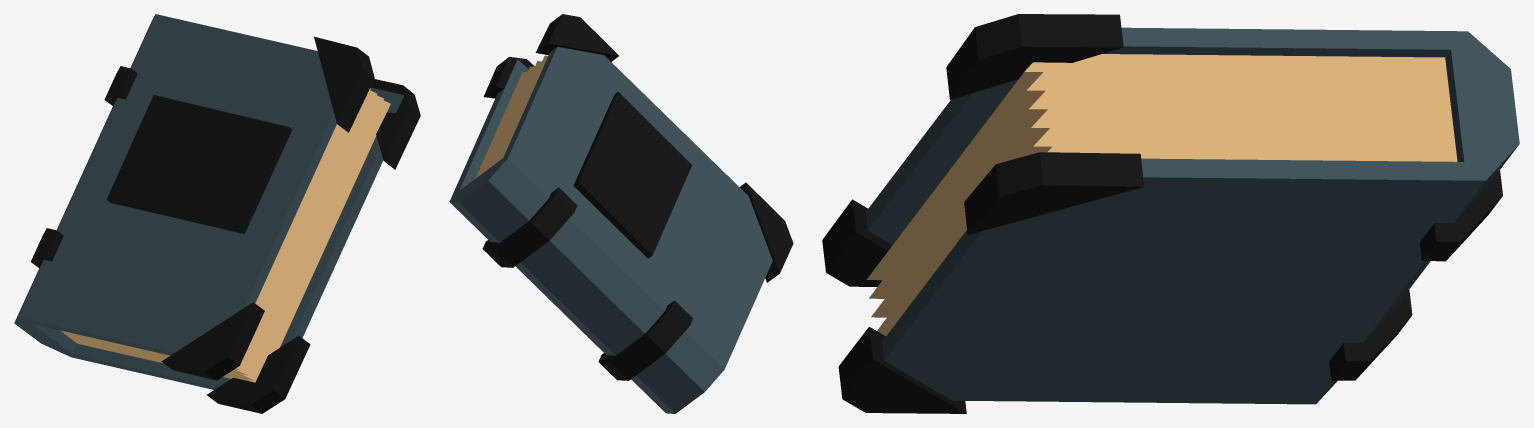
3 views of the same model, side by side, from view 1: azimuth 30°, elevation 25°; view 2: azimuth 150°, elevation 25°; view 3: azimuth 270°, elevation 25° (orthographic). The views are drawn at different scales.
Parts seen in each view (by area): view 1: node_MeshObject-1322332160-PolyPaper18; view 2: node_MeshObject-1322332160-PolyPaper18; view 3: node_MeshObject-1322332160-PolyPaper18.
Part boxes in pixels (x1=…): node_MeshObject-1322332160-PolyPaper18: x1=14, y1=14, x2=420, y2=413; node_MeshObject-1322332160-PolyPaper18: x1=449, y1=14, x2=793, y2=413; node_MeshObject-1322332160-PolyPaper18: x1=822, y1=14, x2=1519, y2=413.
Bounding box in the file's own units: 0.3173 × 0.3044 × 0.3449.
